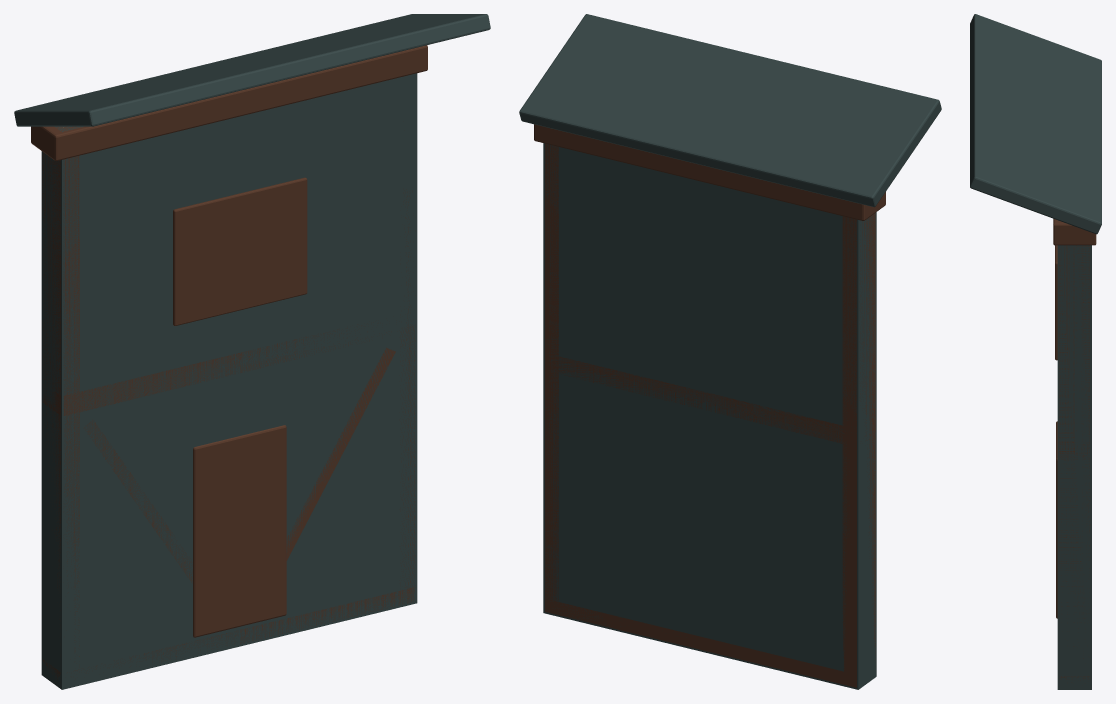
The model's file is env-facade-a.glb.
The picture shows the model from 3 angles, left to right: view 1: azimuth 30°, elevation 25°; view 2: azimuth 150°, elevation 25°; view 3: azimuth 270°, elevation 25°; orthographic projection. The views are drawn at different scales.
Parts seen in each view (by area): view 1: COL_wall, VIS_door, VIS_win_frame, VIS_roof, VIS_plate_top, VIS_post_l, VIS_rail_mid, VIS_brace_r, VIS_sill, VIS_brace_l, VIS_post_r; view 2: COL_wall, VIS_roof, VIS_post_l, VIS_post_r, VIS_plate_top, VIS_rail_mid, VIS_sill; view 3: VIS_roof, COL_wall, VIS_post_r, VIS_plate_top, VIS_door, VIS_win_frame.
Part boxes in pixels (<box>): COL_wall: <box>41,73,417,689</box>; VIS_door: <box>193,425,286,637</box>; VIS_win_frame: <box>173,177,307,325</box>; VIS_roof: <box>14,14,490,126</box>; VIS_plate_top: <box>31,45,427,160</box>; VIS_post_l: <box>42,127,79,670</box>; VIS_rail_mid: <box>42,322,391,415</box>; VIS_brace_r: <box>286,347,395,560</box>; VIS_sill: <box>43,587,415,679</box>; VIS_brace_l: <box>84,420,192,583</box>; VIS_post_r: <box>400,189,415,603</box>; COL_wall: <box>543,143,876,689</box>; VIS_roof: <box>519,14,941,207</box>; VIS_post_l: <box>842,213,875,687</box>; VIS_post_r: <box>545,143,558,614</box>; VIS_plate_top: <box>534,124,885,220</box>; VIS_rail_mid: <box>553,355,875,443</box>; VIS_sill: <box>545,599,856,687</box>; VIS_roof: <box>970,14,1101,234</box>; COL_wall: <box>1057,245,1091,689</box>; VIS_post_r: <box>1059,245,1090,658</box>; VIS_plate_top: <box>1053,218,1096,245</box>; VIS_door: <box>1056,421,1057,618</box>; VIS_win_frame: <box>1055,245,1057,360</box>.
Bounding box in the file's own units: 4.5 × 6.67 × 1.53.
